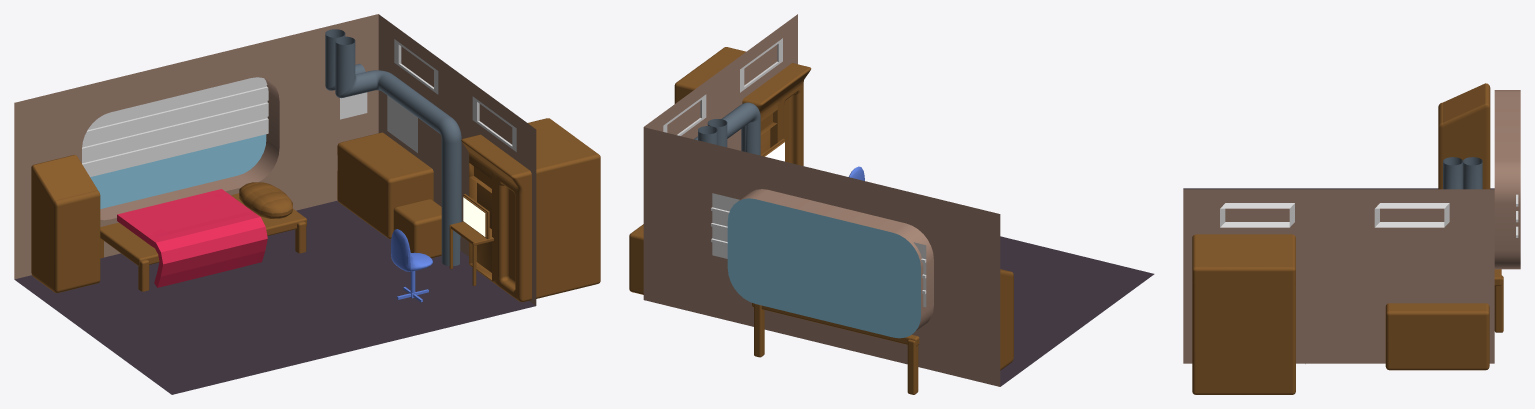
Rendered from BlockOut.fbx.
The picture shows the model from 3 angles, left to right: view 1: azimuth 30°, elevation 25°; view 2: azimuth 150°, elevation 25°; view 3: azimuth 270°, elevation 25°; orthographic projection. The views are drawn at different scales.
Visible parts, largest first — view 1: Plane, Cube.010, Plane.001, Plane.004, Cube.006, Elbow Joint, Cube.008, Plane.009, Plane.002, Cube.009, Plane.003, Cube.007 (+5 smaller); view 2: Plane, Plane.009, Cube.010, Elbow Joint, Plane.002, Plane.001, Cube.006, Cube.008, Plane.006; view 3: Plane, Cube.010, Cube.008, Cube.006, Elbow Joint, Plane.005, Plane.006, Plane.002.
Part boxes in pixels (x1=…): Plane: x1=14, y1=14, x2=536, y2=394; Cube.010: x1=461, y1=118, x2=600, y2=302; Plane.001: x1=82, y1=77, x2=268, y2=176; Plane.004: x1=117, y1=189, x2=267, y2=287; Cube.006: x1=31, y1=155, x2=100, y2=293; Elbow Joint: x1=325, y1=29, x2=461, y2=266; Cube.008: x1=337, y1=132, x2=433, y2=238; Plane.009: x1=90, y1=134, x2=266, y2=208; Plane.002: x1=100, y1=193, x2=306, y2=291; Cube.009: x1=393, y1=199, x2=441, y2=258; Plane.003: x1=449, y1=194, x2=493, y2=285; Cube.007: x1=239, y1=182, x2=292, y2=218; Plane: x1=643, y1=14, x2=1154, y2=386; Plane.009: x1=727, y1=198, x2=920, y2=338; Cube.010: x1=674, y1=47, x2=811, y2=165; Elbow Joint: x1=694, y1=102, x2=760, y2=155; Plane.002: x1=752, y1=303, x2=919, y2=394; Plane.001: x1=711, y1=193, x2=926, y2=307; Cube.006: x1=1000, y1=269, x2=1013, y2=370; Cube.008: x1=629, y1=224, x2=643, y2=294; Plane.006: x1=740, y1=38, x2=782, y2=92; Plane: x1=1183, y1=90, x2=1520, y2=363; Cube.010: x1=1192, y1=234, x2=1295, y2=394; Cube.008: x1=1385, y1=303, x2=1489, y2=370; Cube.006: x1=1438, y1=83, x2=1490, y2=189; Elbow Joint: x1=1443, y1=157, x2=1482, y2=189; Plane.005: x1=1374, y1=203, x2=1449, y2=227; Plane.006: x1=1220, y1=203, x2=1294, y2=227; Plane.002: x1=1494, y1=269, x2=1503, y2=332.
Bounding box in the file's own units: 954 × 430 × 650.
